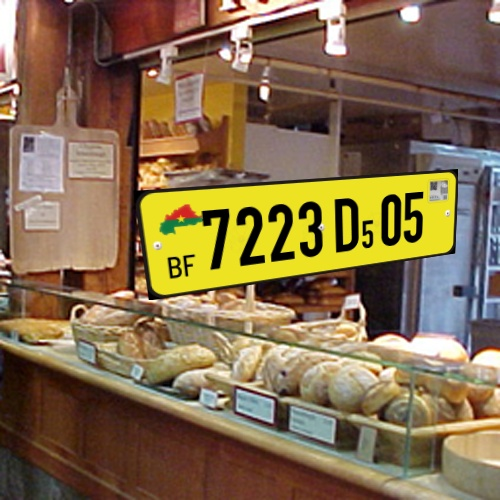plate: (126, 164, 466, 307)
